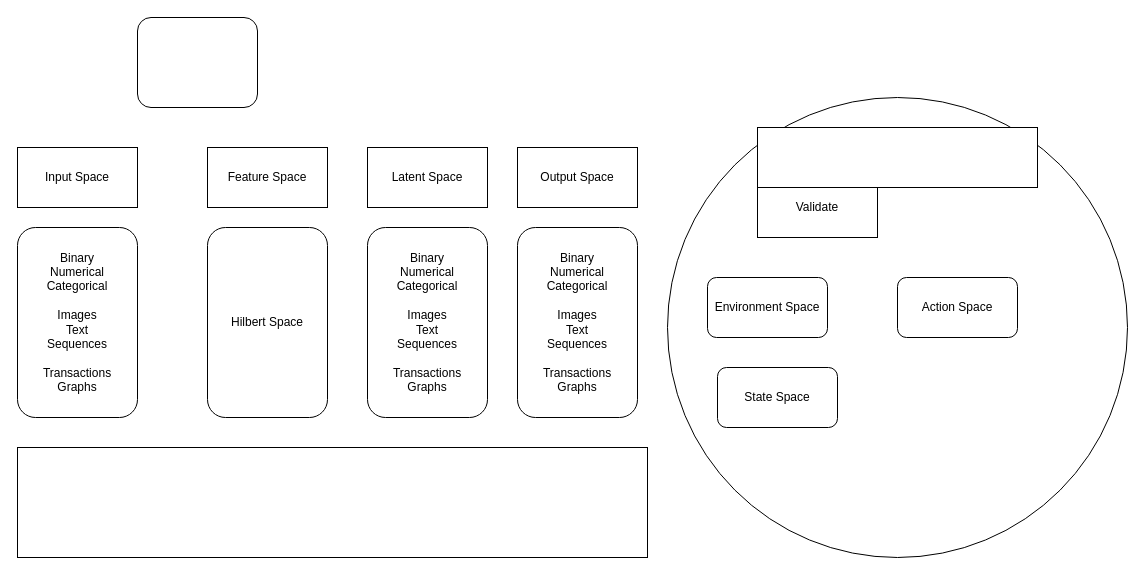
The diagram is 1145 pixels wide and 575 high, and some of its shapes have lost their labels. The centre of each missing label's shape, as x and y in pixels:
"Embedding Space" goes at (x=197, y=62).
"Knowledge Space" goes at (x=332, y=502).
"Reinforcement Learning Decisions: Decision Theory with Game Theory" goes at (x=897, y=157).
